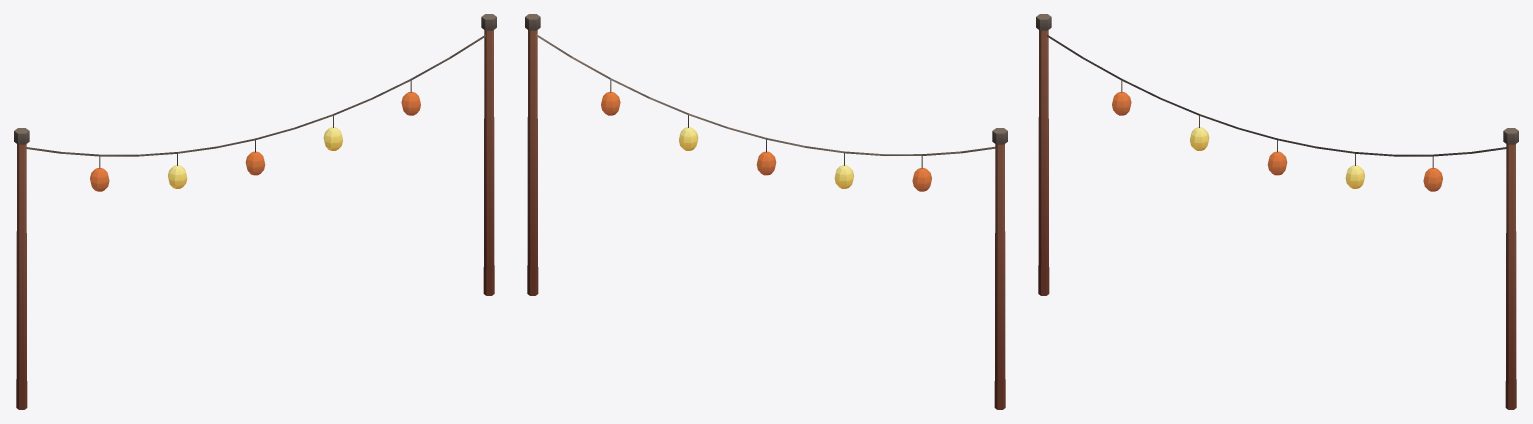
Rendered from lantern_string.glb.
3 views of the same model, side by side, from view 1: azimuth 30°, elevation 25°; view 2: azimuth 150°, elevation 25°; view 3: azimuth 330°, elevation 25° (orthographic).
Visible parts, largest first — view 1: lantern_string; view 2: lantern_string; view 3: lantern_string.
Part boxes in pixels (x1,y1,x2,y2): lantern_string: (14, 14, 496, 409); lantern_string: (525, 14, 1007, 409); lantern_string: (1036, 14, 1518, 409).
Bounding box in the file's own units: 9.23 × 5.1 × 0.34.
Materials: 2 (2 with a texture image).
